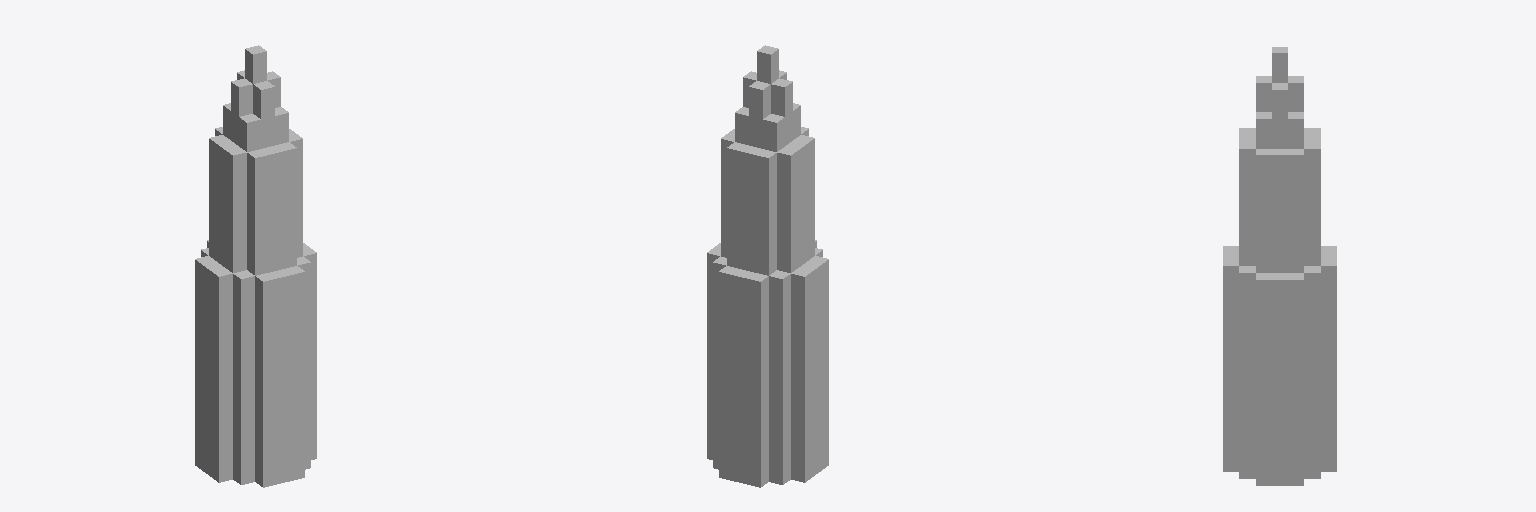
Rendered from Ammo.obj.
3 renders of one model, left to right at view 1: azimuth 30°, elevation 25°; view 2: azimuth 150°, elevation 25°; view 3: azimuth 270°, elevation 25°, orthographic.
Parts seen in each view (by area): view 1: object 1; view 2: object 1; view 3: object 1.
Part boxes in pixels (x1,y1,x2,y2): object 1: (195, 45, 316, 487); object 1: (707, 45, 828, 487); object 1: (1223, 47, 1336, 485).
Bounding box in the file's own units: 0.7 × 2.8 × 0.7.